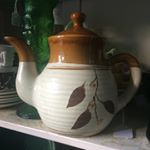other: (1, 11, 142, 140)
